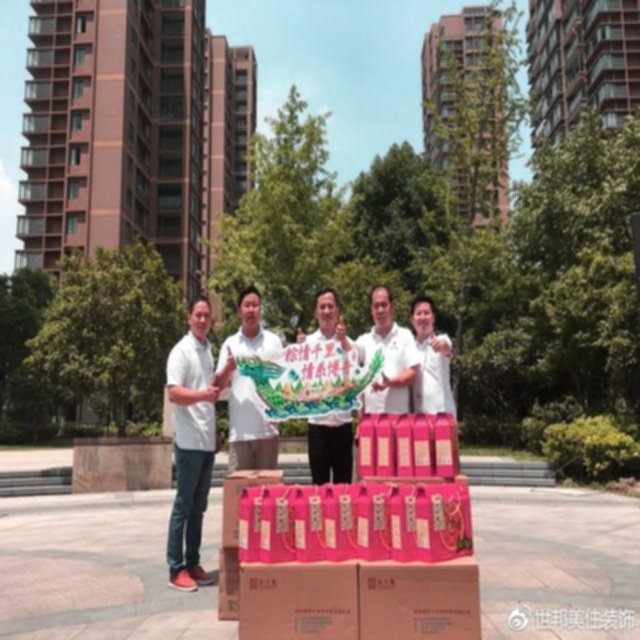Sin_Casco_Mascarrilla: (238, 285, 262, 330), (315, 288, 339, 332), (411, 293, 435, 337), (369, 285, 394, 327), (190, 293, 211, 342)
